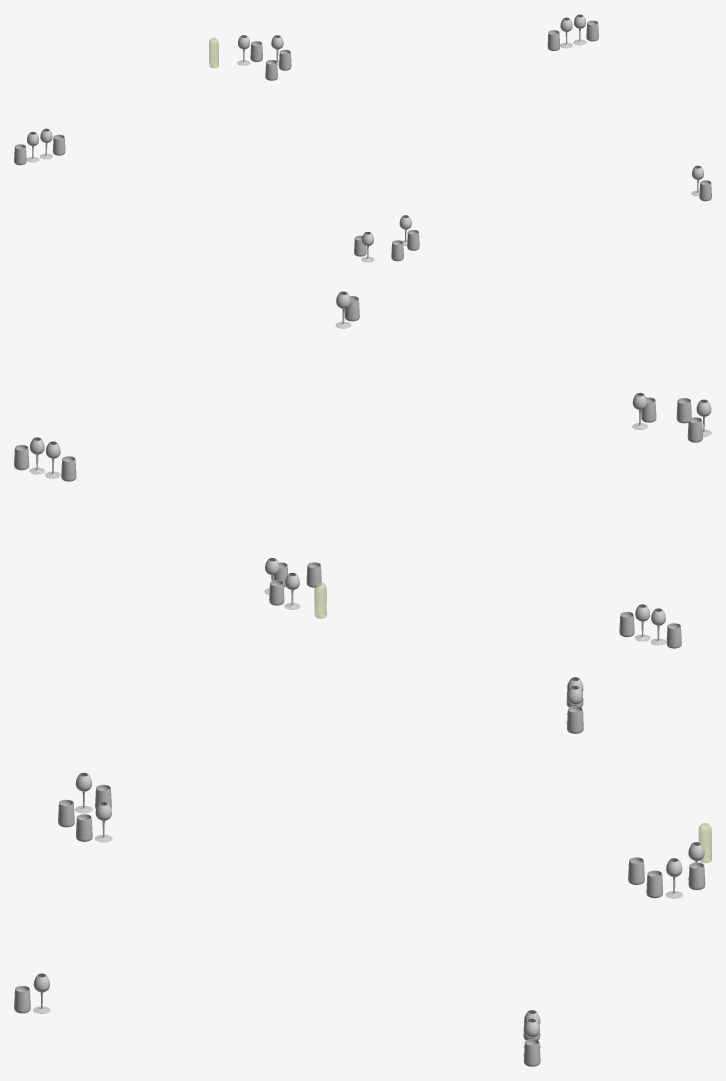
File: glasses.glb
3 views of the same model, one above another, from view 1: azimuth 30°, elevation 25°; view 2: azimuth 150°, elevation 25°; view 3: azimuth 270°, elevation 25° (orthographic). The views are drawn at different scales.
Parts seen in each view (by area): view 1: glass_cup; view 2: glass_cup; view 3: glass_cup.
Boxes of the visible parts, bbox=[...] form: glass_cup: bbox=[14, 14, 711, 262]; glass_cup: bbox=[14, 291, 711, 648]; glass_cup: bbox=[14, 677, 705, 1066].
Bounding box in the file's own units: 4.87 × 0.2338 × 3.94.
